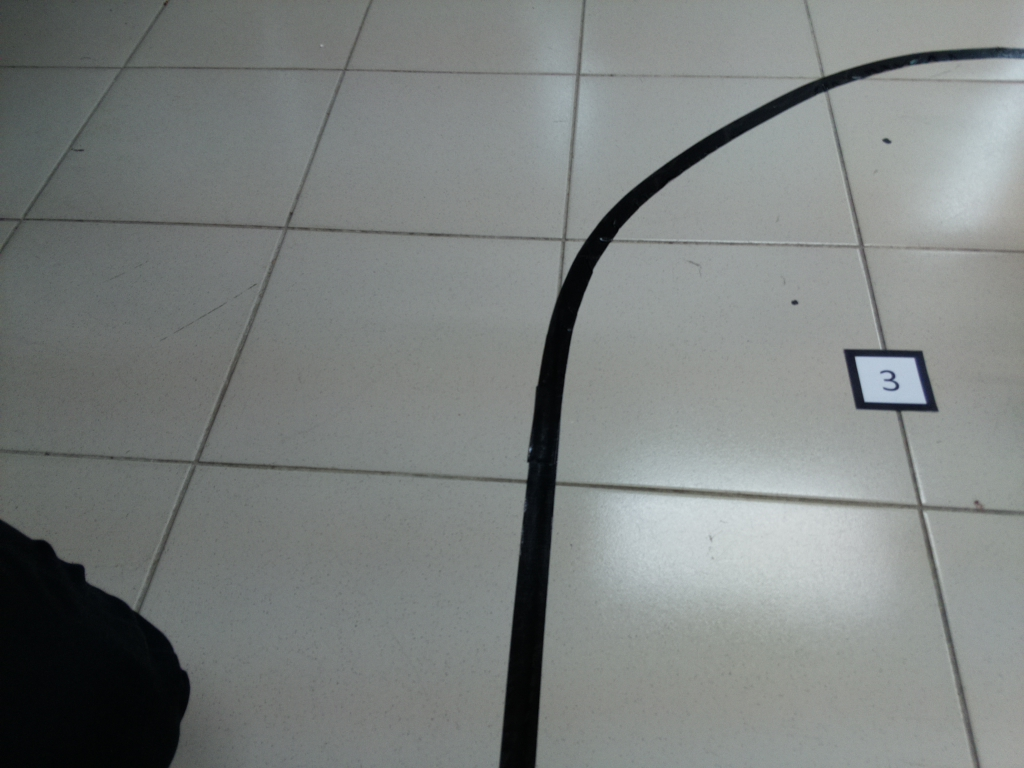right: (498, 44, 1024, 346)
